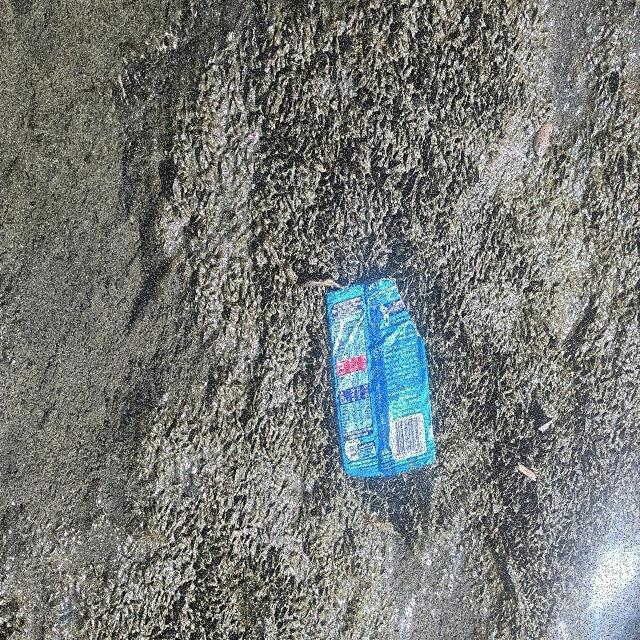plastic_waste: (326, 274, 438, 480)
